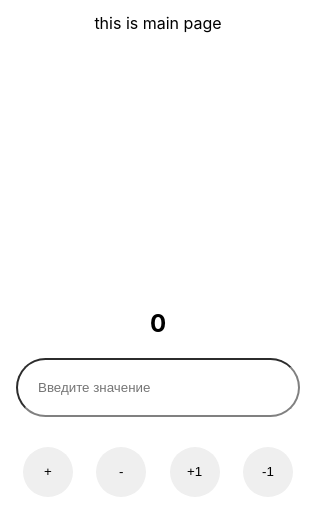
Scenario: test for counter › increment
Expected: the heading with test id "counter-value" reads "0", [150, 309, 166, 338]
Click the button with test id "plus" at coordinates (195, 472), box [170, 447, 220, 497]
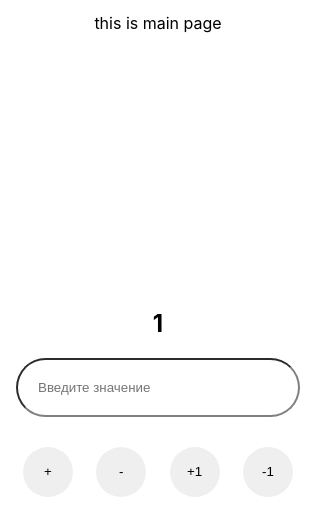
Expected: the heading with test id "counter-value" reads "1", [153, 309, 163, 338]
Click the button with test id "plus" at coordinates (195, 472), box [170, 447, 220, 497]
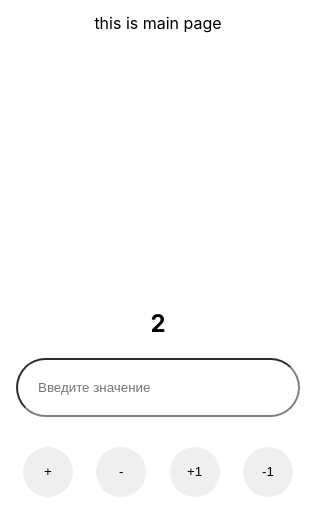
Expected: the heading with test id "counter-value" reads "2", [150, 309, 166, 338]
